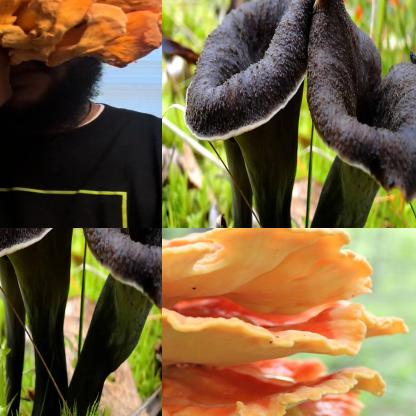CoW: (162, 228, 412, 416), (0, 0, 162, 85)
chanterelle: (182, 0, 325, 228), (307, 0, 416, 228), (0, 228, 98, 416), (80, 228, 162, 416)
